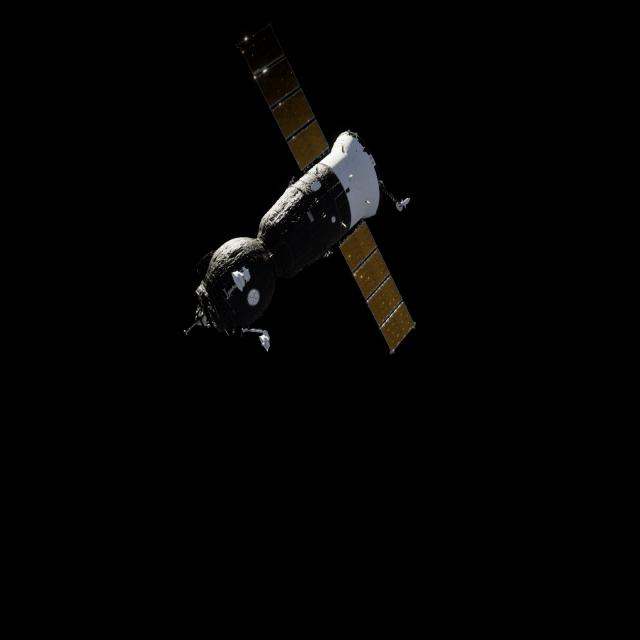Satellites revolving around earth: (182, 21, 418, 358)
